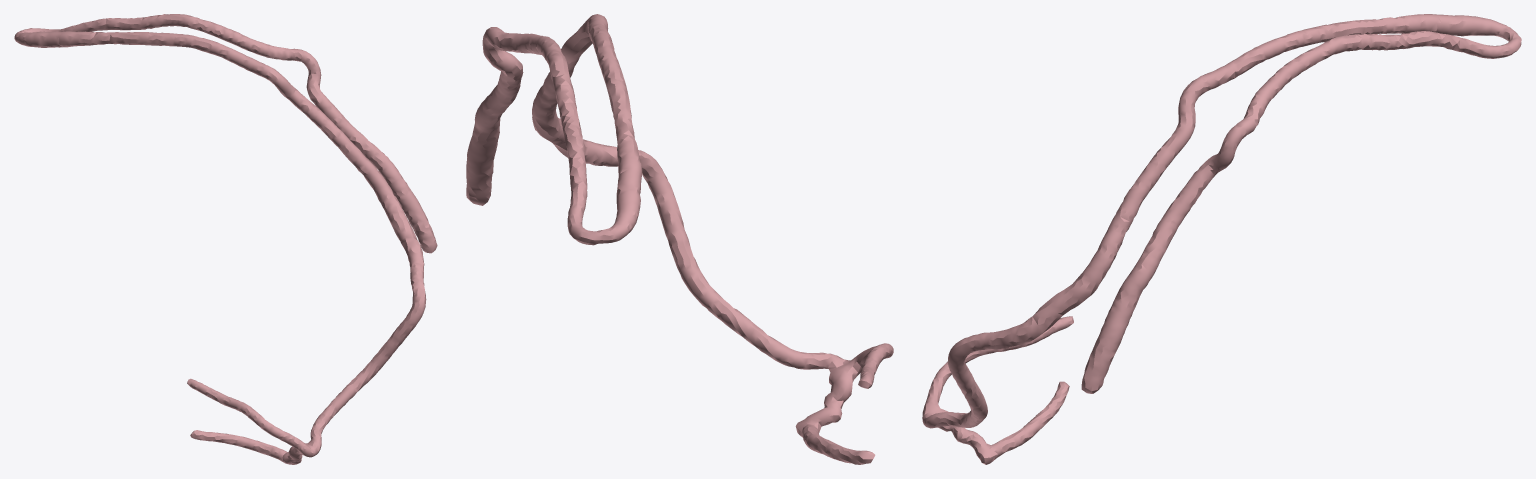
File: fma9486_mm577.glb
3 views of the same model, side by side, from view 1: azimuth 30°, elevation 25°; view 2: azimuth 150°, elevation 25°; view 3: azimuth 270°, elevation 25° (orthographic). The views are drawn at different scales.
Parts seen in each view (by area): view 1: FMA9486_MM577; view 2: FMA9486_MM577; view 3: FMA9486_MM577.
Part boxes in pixels (box(x1,y1,x2,y2)): FMA9486_MM577: box(14, 14, 437, 464); FMA9486_MM577: box(466, 14, 893, 464); FMA9486_MM577: box(922, 14, 1521, 464).
Size of the model in its own units: 0.0226 by 0.0281 by 0.0345.
